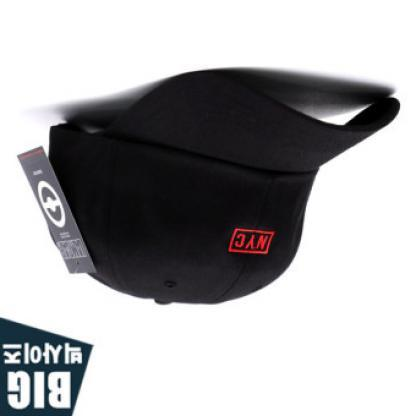cap: (34, 66, 406, 315)
